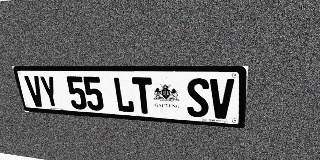5: (82, 76, 105, 111), (66, 76, 88, 110)
L: (112, 77, 135, 113)
S: (186, 78, 209, 118)
T: (132, 77, 154, 114)
V: (210, 78, 234, 119), (24, 76, 46, 107)
Y: (38, 76, 61, 108)
